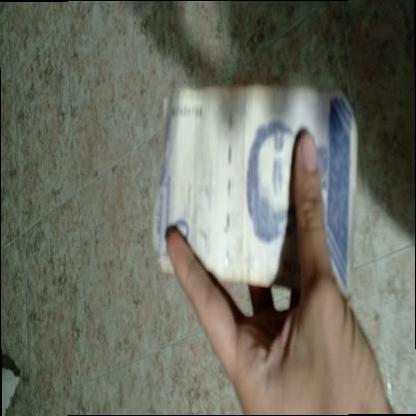ten-front-vef: (154, 87, 356, 300)
